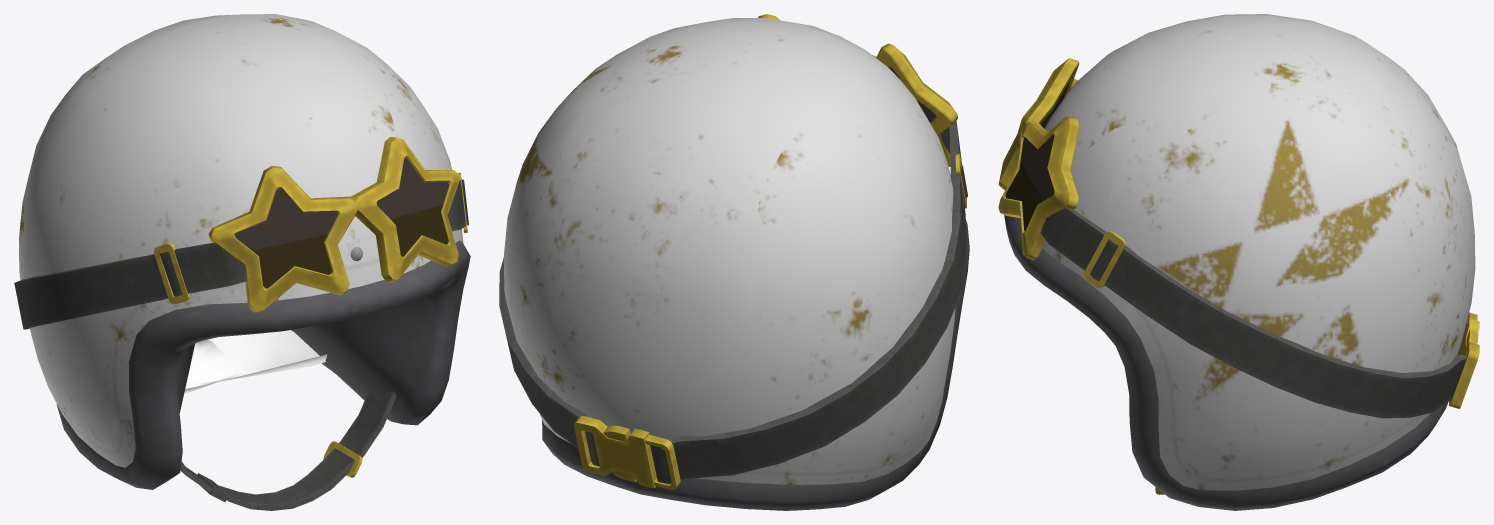
File: p0_hdw1104_00_hdw00.gltf
3 views of the same model, side by side, from view 1: azimuth 30°, elevation 25°; view 2: azimuth 150°, elevation 25°; view 3: azimuth 270°, elevation 25° (orthographic). The views are drawn at different scales.
Parts seen in each view (by area): view 1: hdw00_helmet_mesh_shape:cap, hdw00_hairstyle_mesh_shape:hairstyle; view 2: hdw00_helmet_mesh_shape:cap; view 3: hdw00_helmet_mesh_shape:cap.
Part boxes in pixels (bbox=[...]): hdw00_helmet_mesh_shape:cap: bbox=[14, 14, 470, 510]; hdw00_hairstyle_mesh_shape:hairstyle: bbox=[184, 330, 327, 394]; hdw00_helmet_mesh_shape:cap: bbox=[499, 14, 969, 510]; hdw00_helmet_mesh_shape:cap: bbox=[998, 14, 1479, 510].
Size of what is drawn, in the model's own units: 0.2987 by 0.3175 by 0.3135.
Materials: 2 (1 with a texture image).
